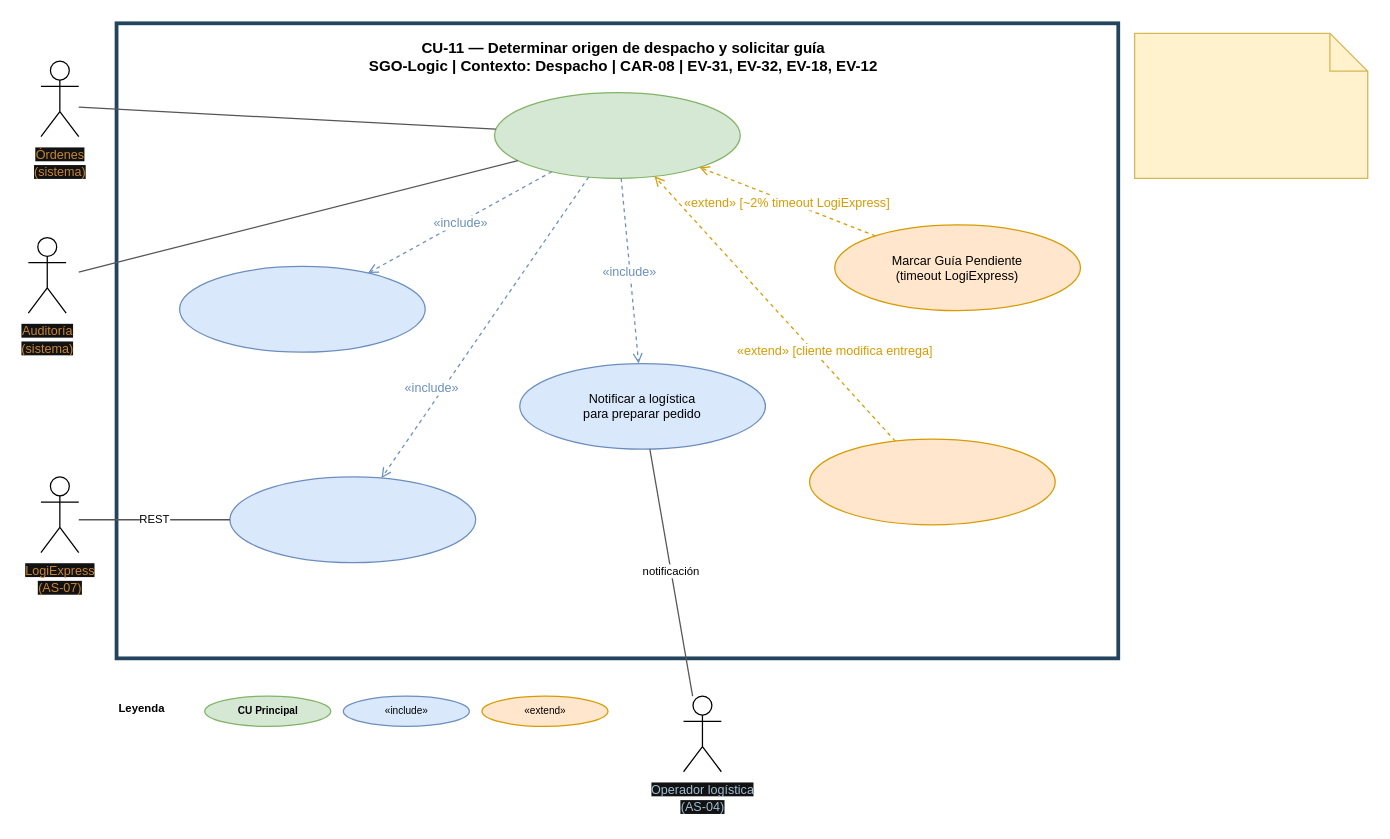
The diagram is 1390 pixels wide and 839 high, and some of its shapes have lost their labels. The shapes that lost their labels are listed below. From the top down, each one's box as (x1, y1, x2, y2) in pixels, then its label:
(1133, 32, 1368, 178): EV-18: LogiExpress falla ~2% solicitudes. RabbitMQ DLX con reintentos. (CAR-08)
(493, 91, 740, 178): Determinar origen de despacho y solicitar guía
(178, 265, 425, 352): Determinar origen (CD / tienda / recogida)
(808, 438, 1055, 525): Re-asignar método entrega post-confirmación
(229, 476, 476, 563): Solicitar guía a LogiExpress REST
